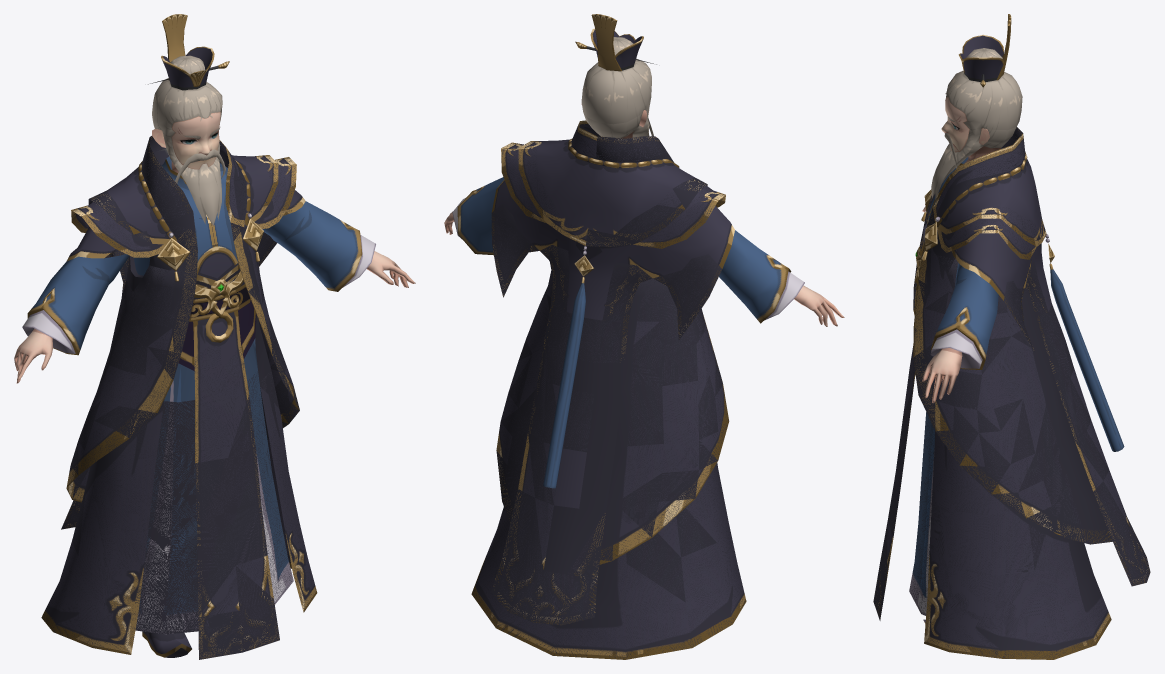
The model's file is s_058_wu_shi_luo_view.fbx.
3 renders of one model, left to right at view 1: azimuth 30°, elevation 25°; view 2: azimuth 150°, elevation 25°; view 3: azimuth 270°, elevation 25°, orthographic.
Visible parts, largest first — view 1: s_058_wu_shi_luo; view 2: s_058_wu_shi_luo; view 3: s_058_wu_shi_luo.
Boxes of the visible parts, x1,y1,x2,y2 form: s_058_wu_shi_luo: [14, 14, 415, 659]; s_058_wu_shi_luo: [444, 14, 844, 659]; s_058_wu_shi_luo: [873, 14, 1150, 659].
Bounding box in the file's own units: 164 × 239 × 99.42.
